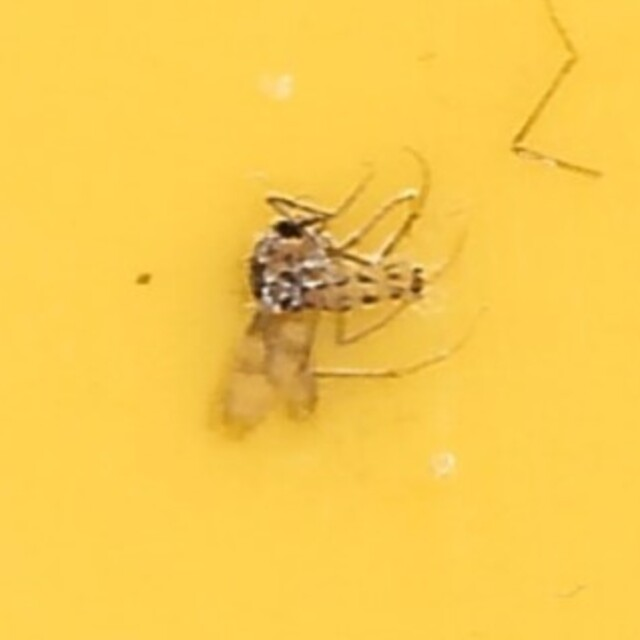Nematocera: (201, 204, 439, 436)
